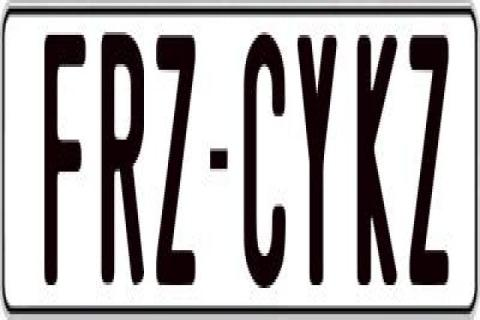C: (242, 35, 284, 303)
F: (44, 29, 84, 282)
K: (356, 32, 404, 300)
R: (102, 29, 152, 285)
Y: (296, 26, 342, 282)
Z: (152, 35, 199, 294), (407, 29, 453, 288)
